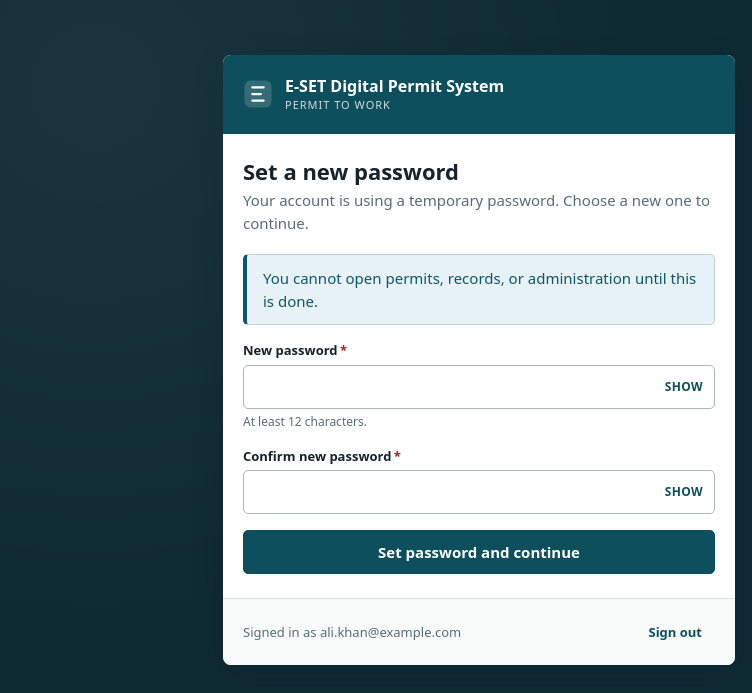
Test: local checks before anything is sent › refuses a password shorter than the backend minimum
Type "short" into the password field labelled "New password*". click: (479, 387)
box: 243,365 -> 715,409
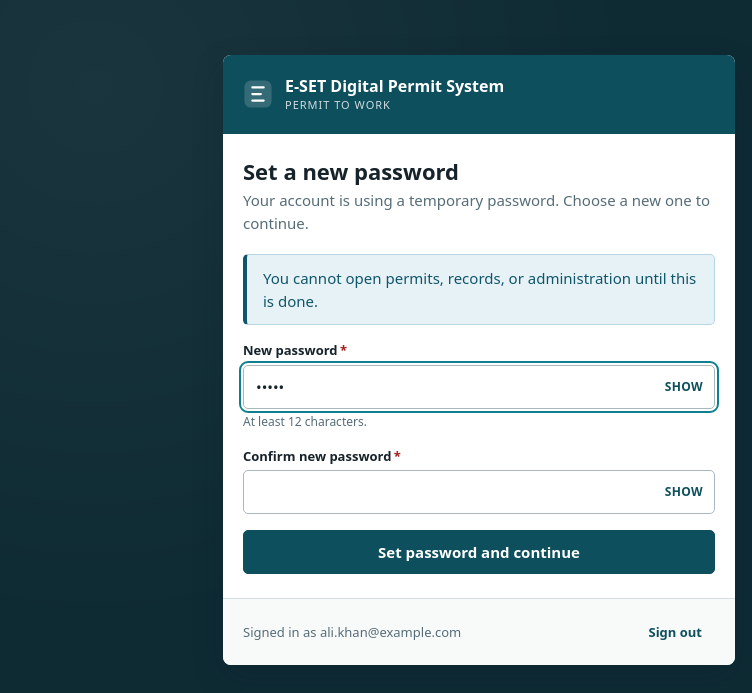
Type "short" into the password field labelled "Confirm new password*". click: (479, 492)
box: 243,470 -> 715,514
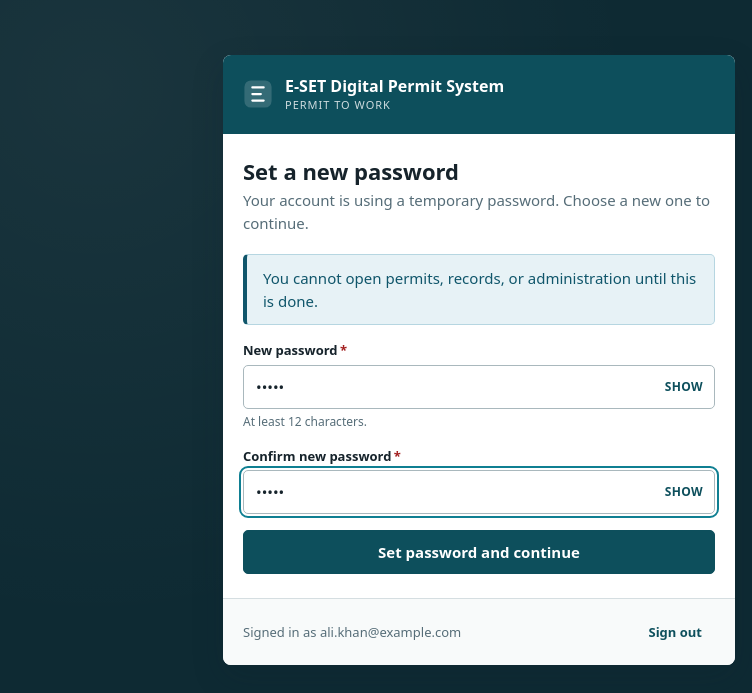
Click the button "Set password and continue". click: (479, 552)
box: 243,530 -> 715,574
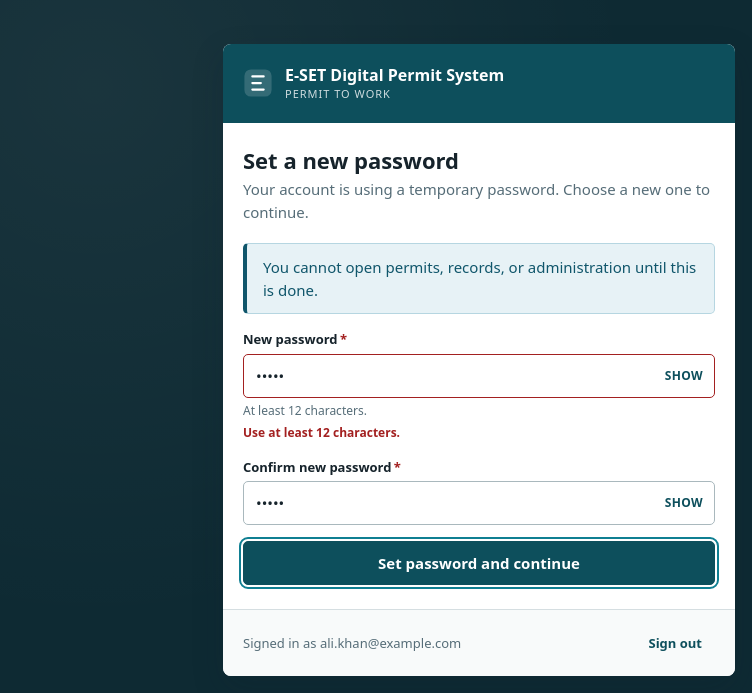
Expected: the text "Use at least 12 characters." is shown, 243,424 -> 400,441
